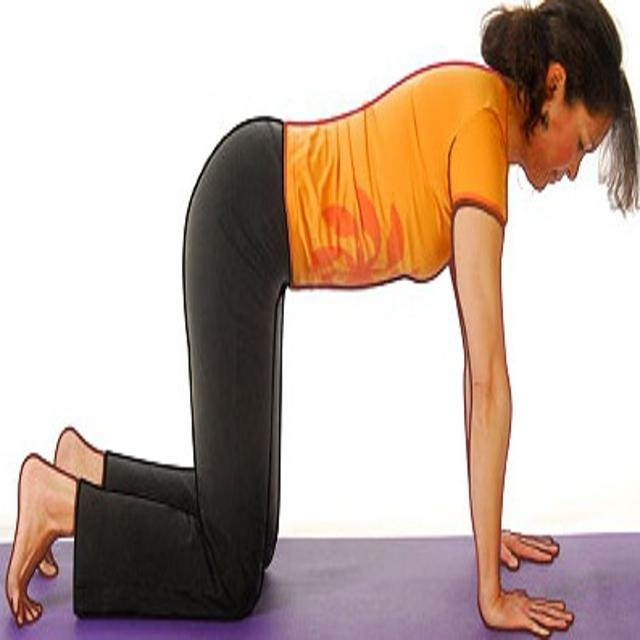Cow_Pose: (7, 6, 619, 636)
